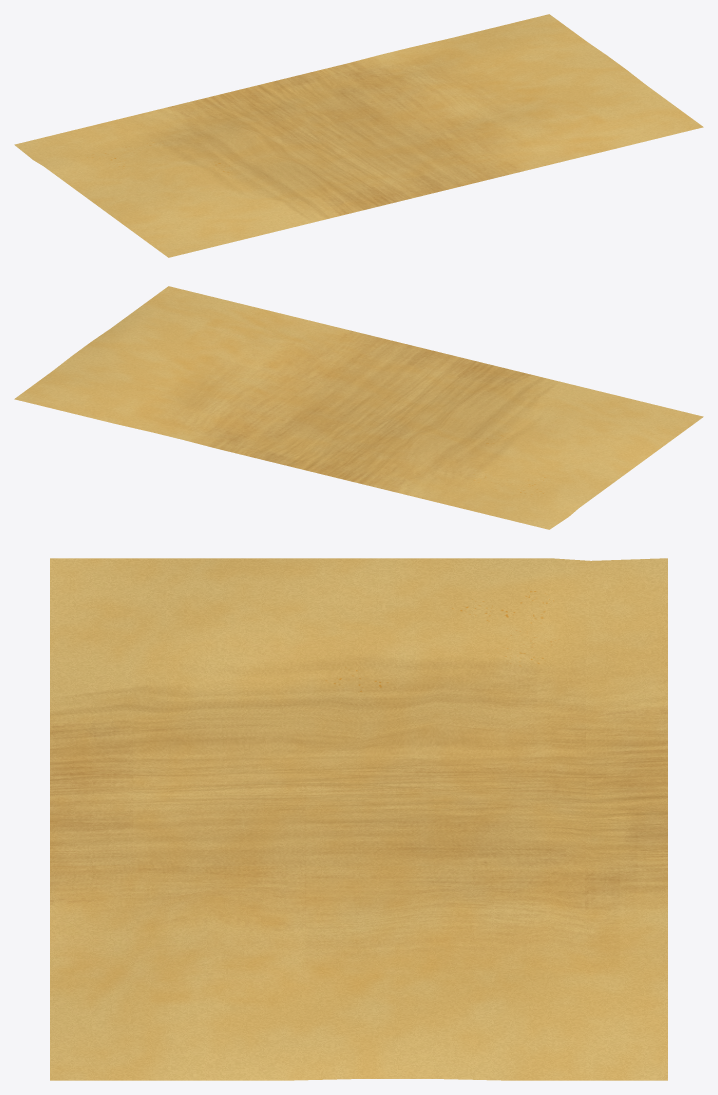
The model's file is tile02.fbx.
3 views of the same model, one above another, from view 1: azimuth 30°, elevation 25°; view 2: azimuth 150°, elevation 25°; view 3: azimuth 270°, elevation 25° (orthographic). The views are drawn at different scales.
Parts seen in each view (by area): view 1: pPlane2; view 2: pPlane2; view 3: pPlane2.
Boxes of the visible parts, <box> form: pPlane2: <box>14,14,703,257</box>; pPlane2: <box>14,286,703,529</box>; pPlane2: <box>50,558,667,1080</box>.
Bounding box in the file's own units: 1.2 × 0.0206 × 0.6.
Materials: 1 (1 with a texture image).
